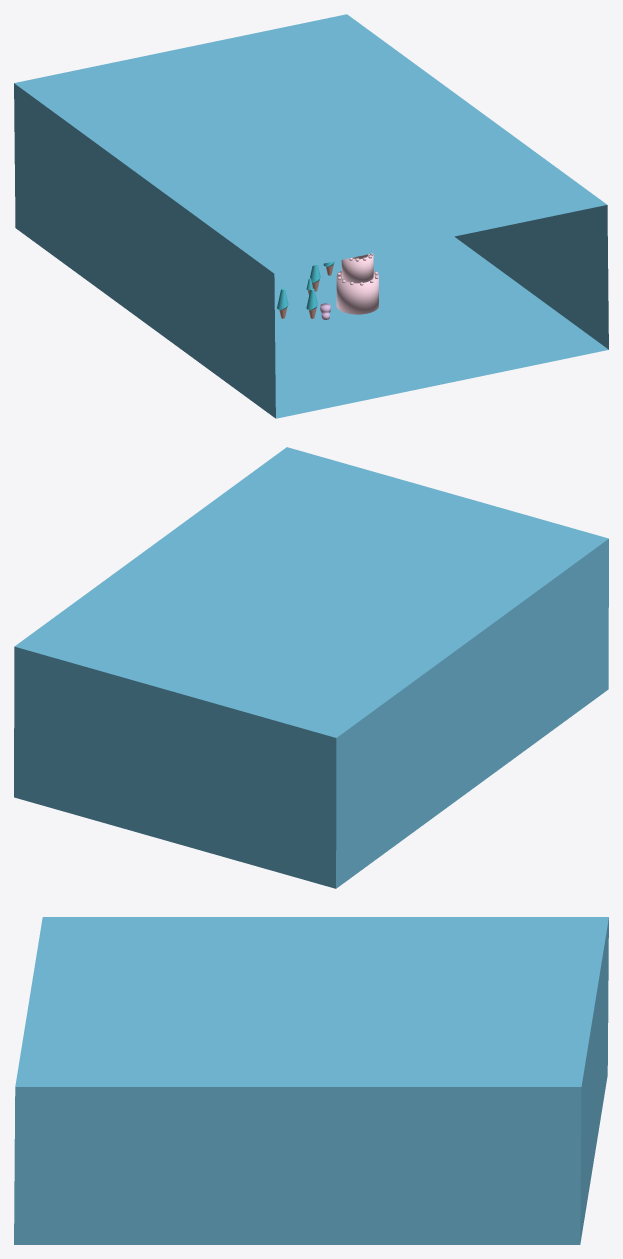
Rendered from cakegltf.gltf.
The picture shows the model from 3 angles, top to bottom: view 1: azimuth 30°, elevation 25°; view 2: azimuth 150°, elevation 25°; view 3: azimuth 270°, elevation 25°; orthographic projection. The views are drawn at different scales.
Parts seen in each view (by area): view 1: Cube, Cylinder, Cylinder.002; view 2: Cube; view 3: Cube.
Part boxes in pixels (x1,y1,x2,y2): Cube: (14, 14, 608, 418); Cylinder: (336, 271, 378, 314); Cylinder.002: (341, 254, 373, 283); Cube: (14, 447, 608, 888); Cube: (14, 917, 608, 1244).
Bounding box in the file's own units: 23.17 × 10.08 × 34.19.
